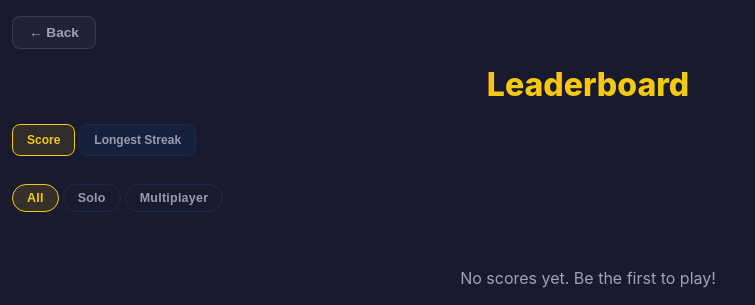
Test case: LeaderboardPage › shows empty message when streak board has no entries
Click the tab "Longest Streak" at point(138, 140), box 79,124 -> 196,156
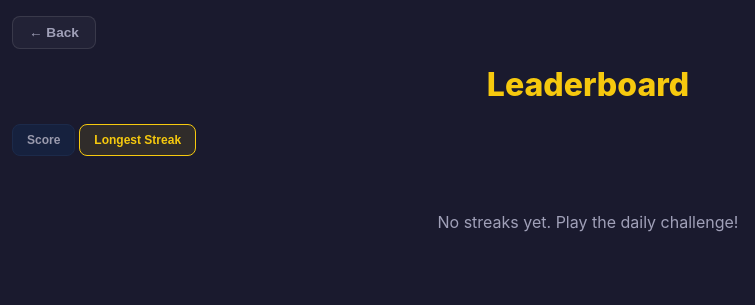
Expected: the text "No streaks yet. Play the daily challenge!" is shown, 438,212 -> 738,232
